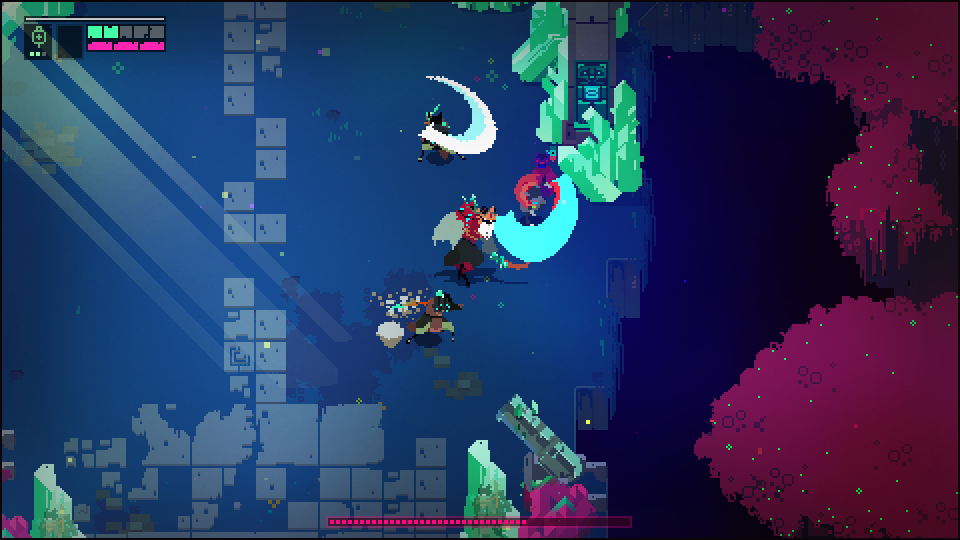hanged_man: (430, 189, 533, 290)
player: (495, 163, 580, 265)
